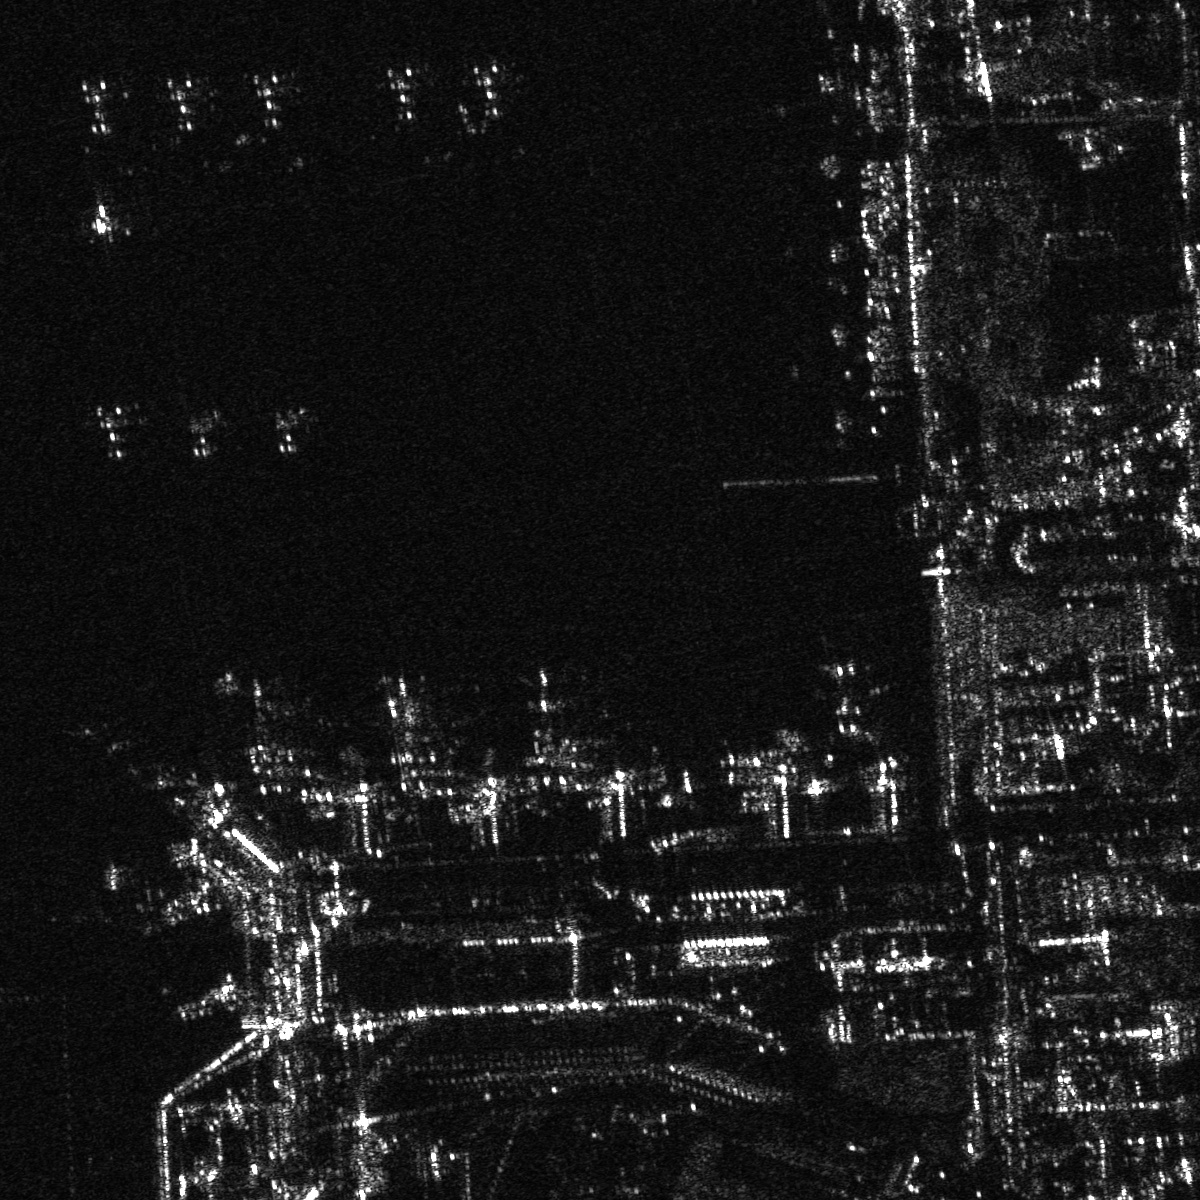A220: (805, 659, 897, 744), (373, 667, 438, 747), (175, 400, 226, 462)
A320/321: (262, 400, 315, 458)
ARJ21: (76, 396, 145, 464), (73, 192, 127, 248)
Boeing787: (512, 664, 579, 737)
other: (452, 55, 522, 125), (238, 63, 300, 138), (224, 668, 290, 738), (69, 73, 129, 138), (157, 65, 208, 138), (375, 59, 424, 129)
